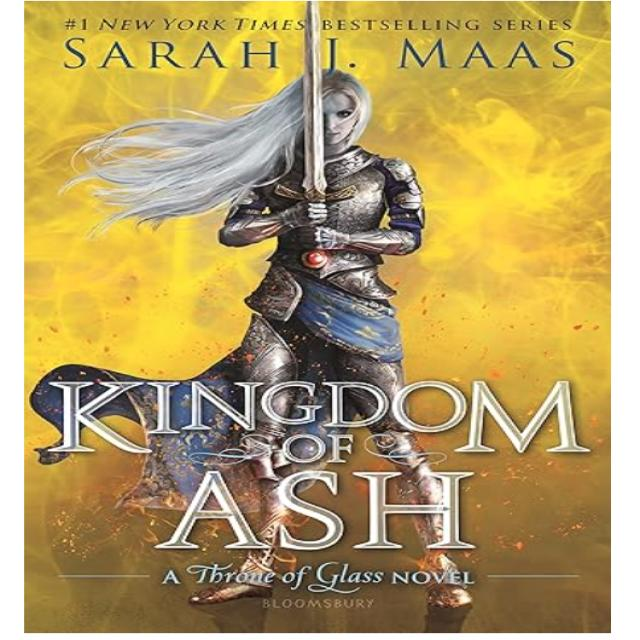titles-or-authors: (44, 371, 594, 556), (54, 32, 584, 78)
